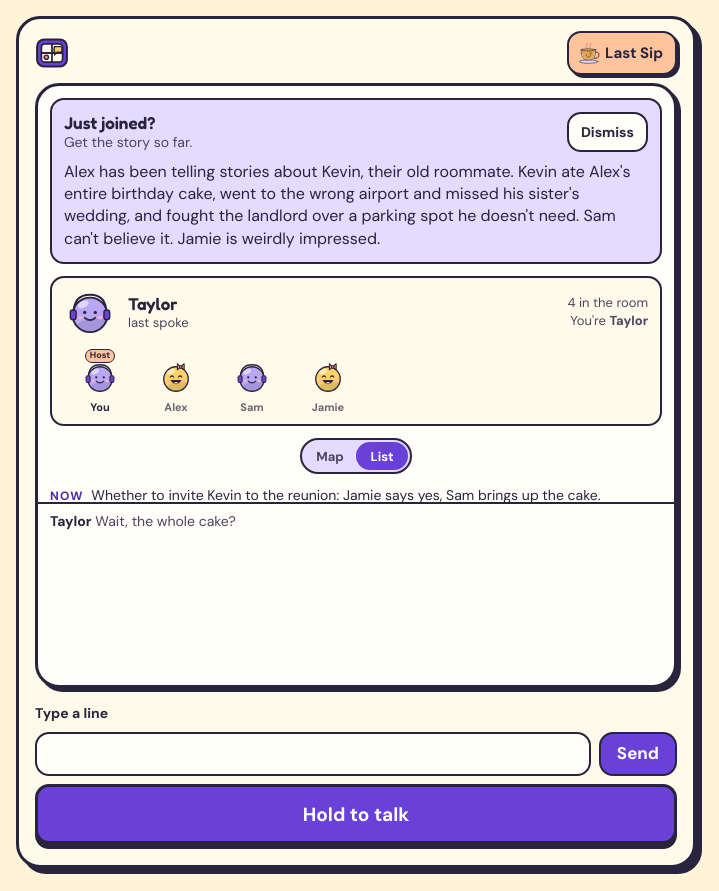
Scenario: typed line › shows "Couldn't send." when the send fails
In the field labelled "Type a line": (313, 754) 35,732 -> 591,776, type "hi"
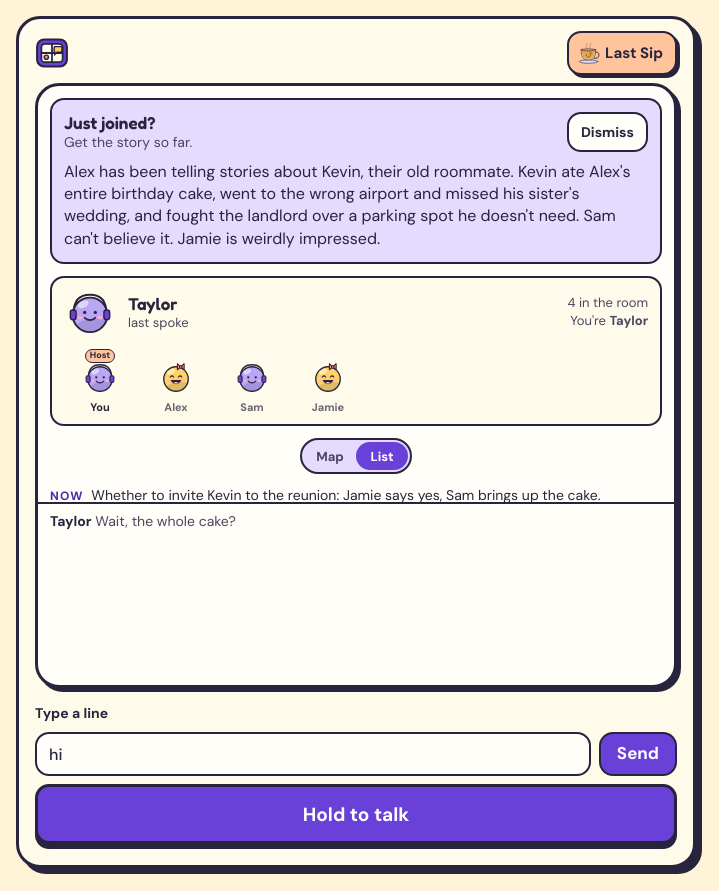
Click the button "Send": (638, 754) 599,732 -> 677,776
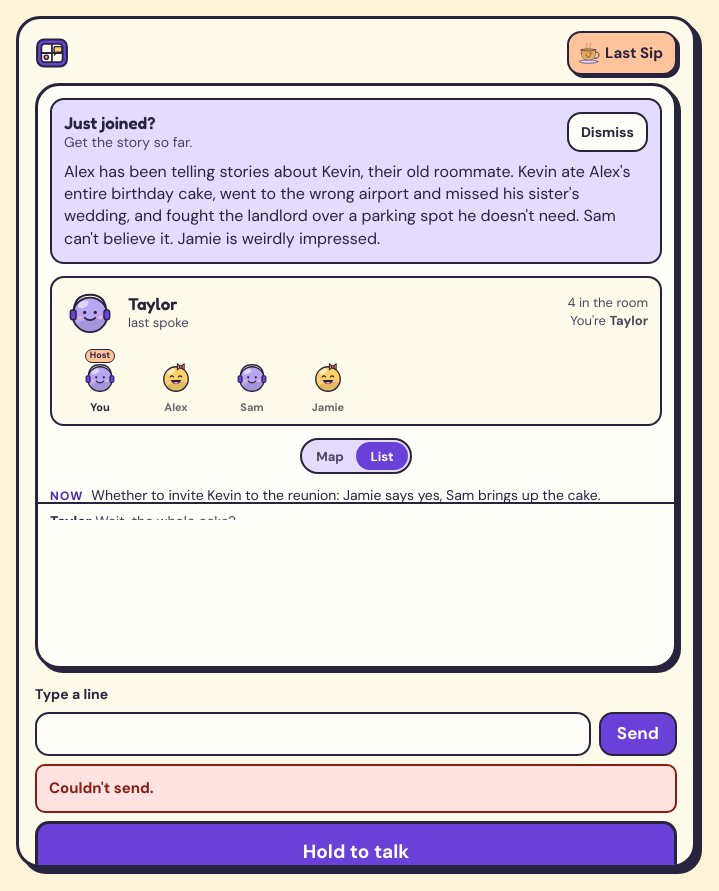
Expected: the text "Couldn't send." is shown, 35,764 -> 677,813
